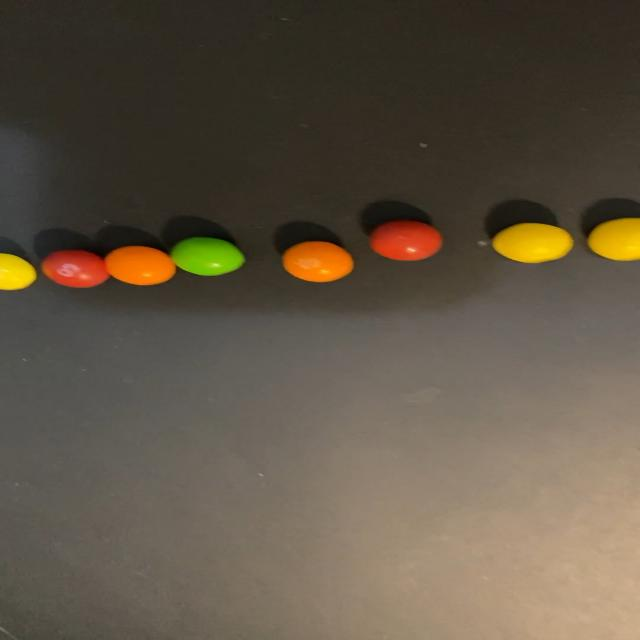smartie: (492, 223, 573, 263), (169, 237, 244, 276), (283, 241, 353, 282), (370, 220, 441, 260), (103, 246, 174, 285), (40, 250, 108, 288), (588, 217, 640, 260), (0, 253, 35, 290)
